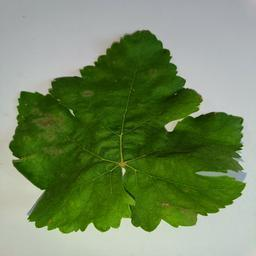Powdery-Mildew: (31, 106, 65, 142), (152, 195, 193, 220), (80, 84, 97, 100), (49, 145, 65, 162)
